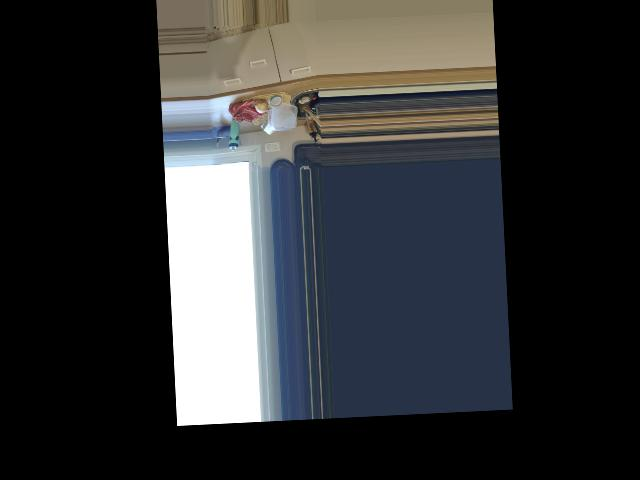onion: (250, 96, 267, 114)
